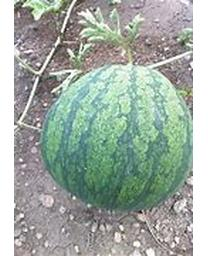watermelon: (42, 64, 193, 214)
